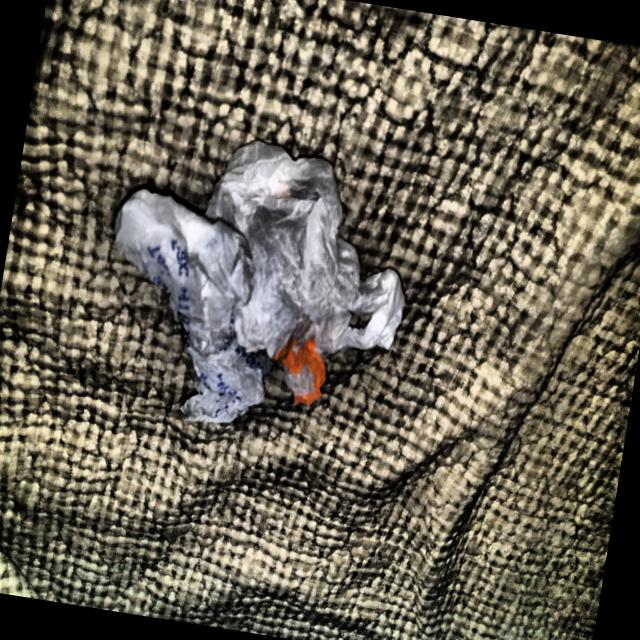plastic bag: (81, 100, 437, 463)
